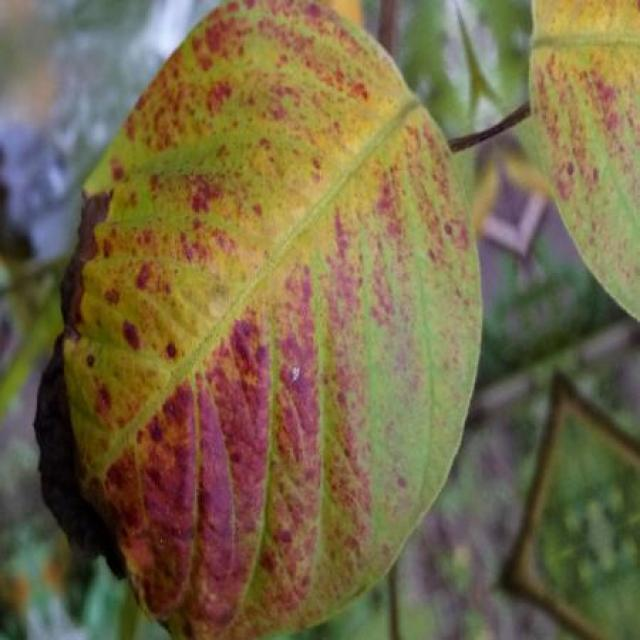Red Rust: (35, 0, 479, 640)
